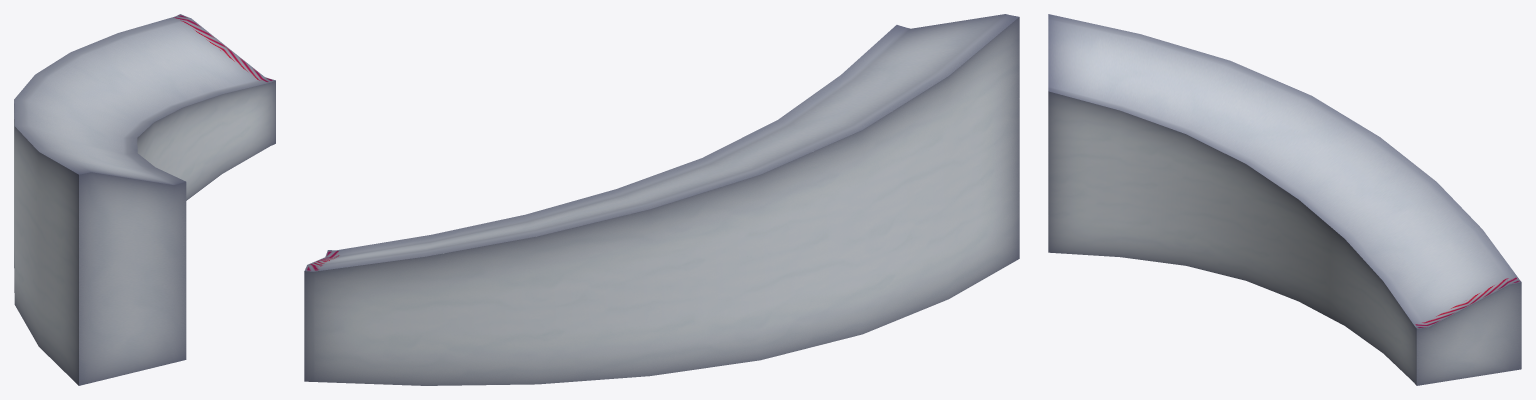
Rendered from Slope_Curve_right.fbx.
3 views of the same model, side by side, from view 1: azimuth 30°, elevation 25°; view 2: azimuth 150°, elevation 25°; view 3: azimuth 270°, elevation 25° (orthographic). The views are drawn at different scales.
Visible parts, largest first — view 1: Turning_right_slope; view 2: Turning_right_slope; view 3: Turning_right_slope.
Part boxes in pixels (<box>): Turning_right_slope: <box>14,14,275,385</box>; Turning_right_slope: <box>304,14,1019,385</box>; Turning_right_slope: <box>1048,14,1521,385</box>.
Bounding box in the file's own units: 7292 × 3751 × 8248.
